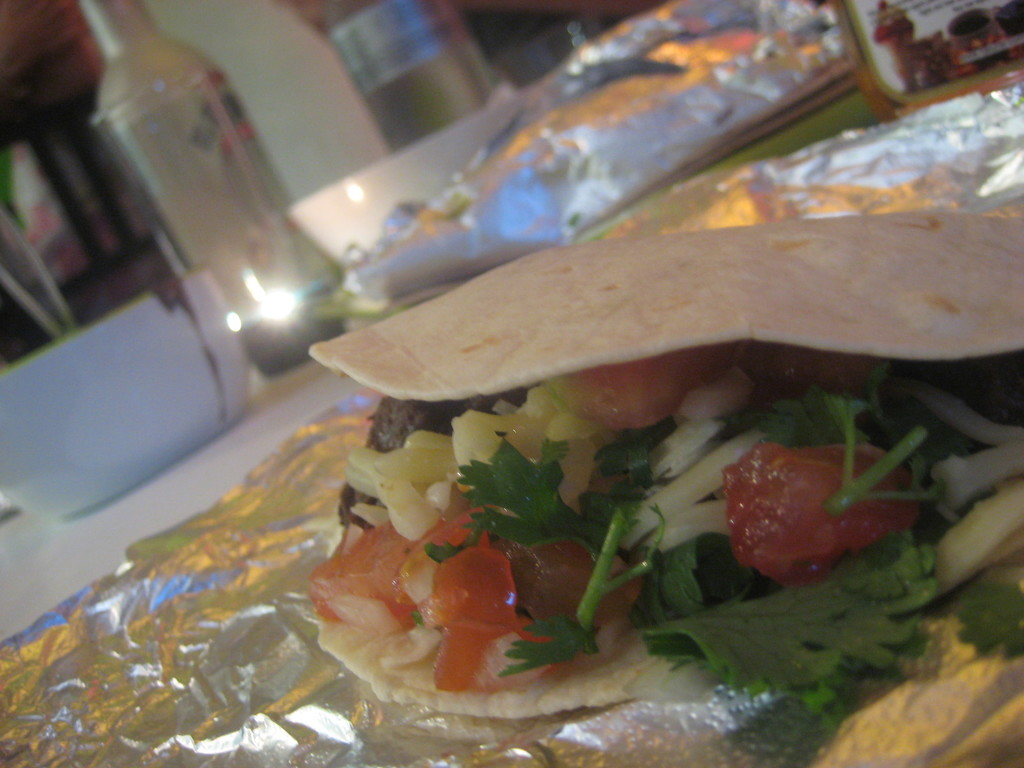taco: (262, 182, 1012, 731)
